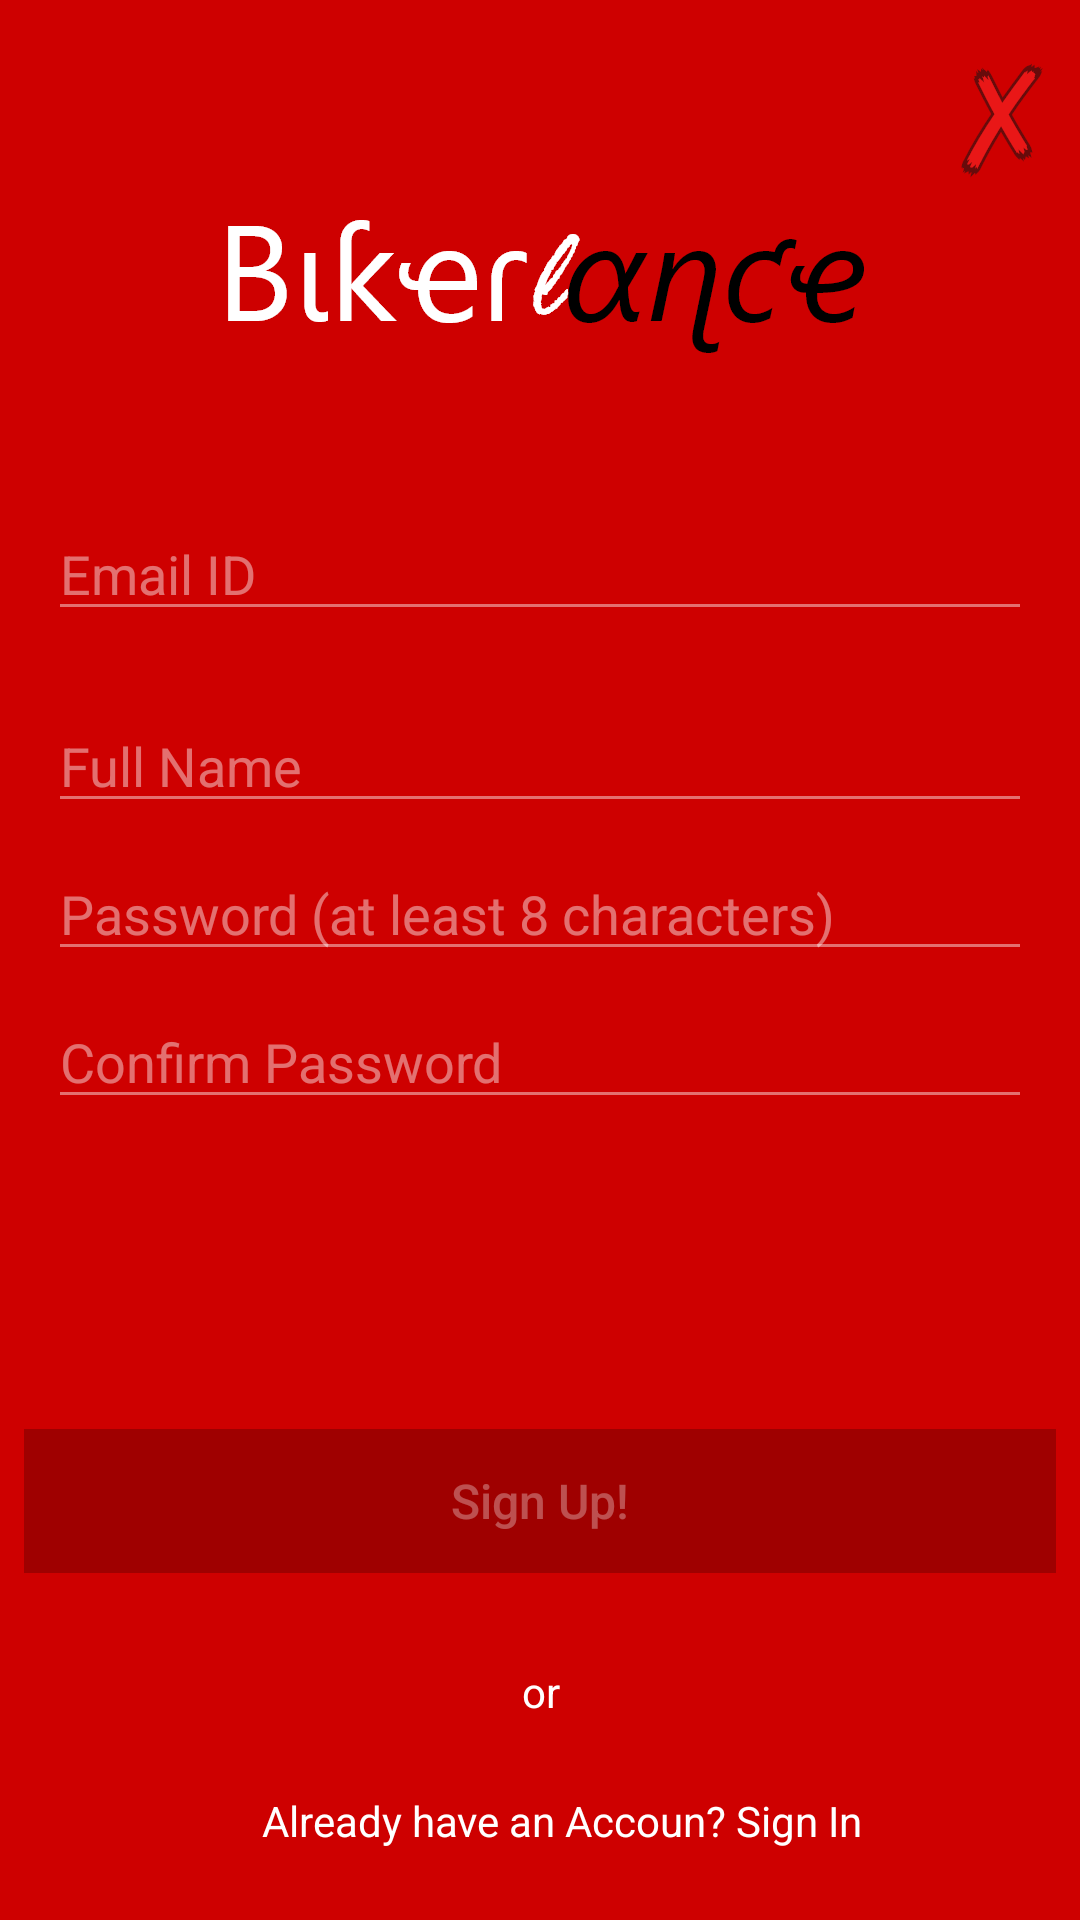

Locate icon controls on the screen. Image size 1080×1920, boxes as (x1, y1, x2, y2).
close cross: (961, 64, 1043, 177)
